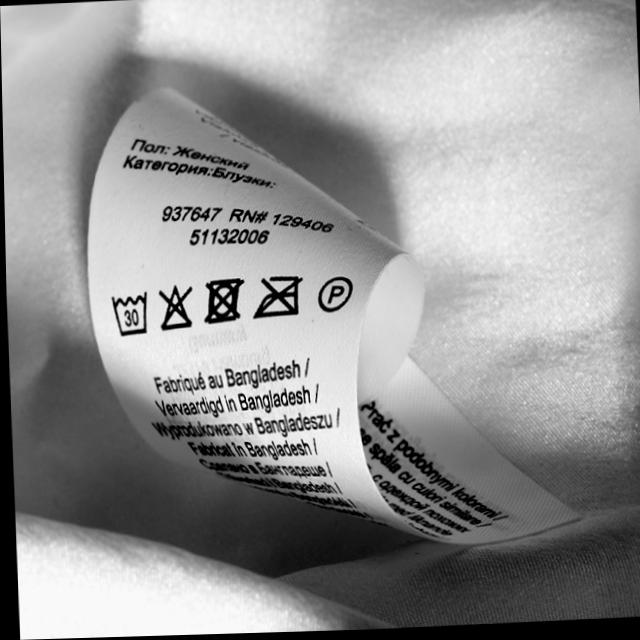30C: (109, 284, 154, 340)
DN_bleach: (157, 278, 198, 336)
DN_iron: (253, 267, 306, 321)
DN_tumble_dry: (203, 271, 245, 331)
dry_clean_any_solvent_except_trichloroethylene: (315, 271, 356, 317)
